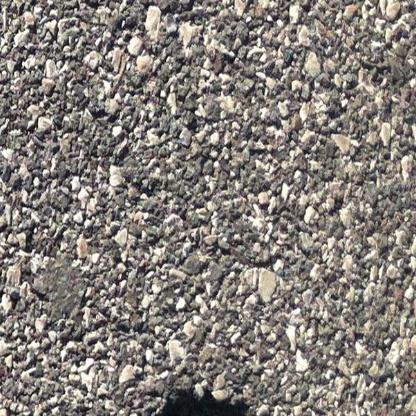Cracks: (146, 386, 264, 416)
